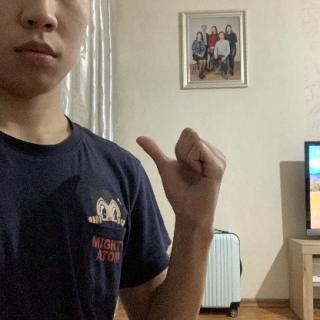WAW: (132, 118, 236, 235)
